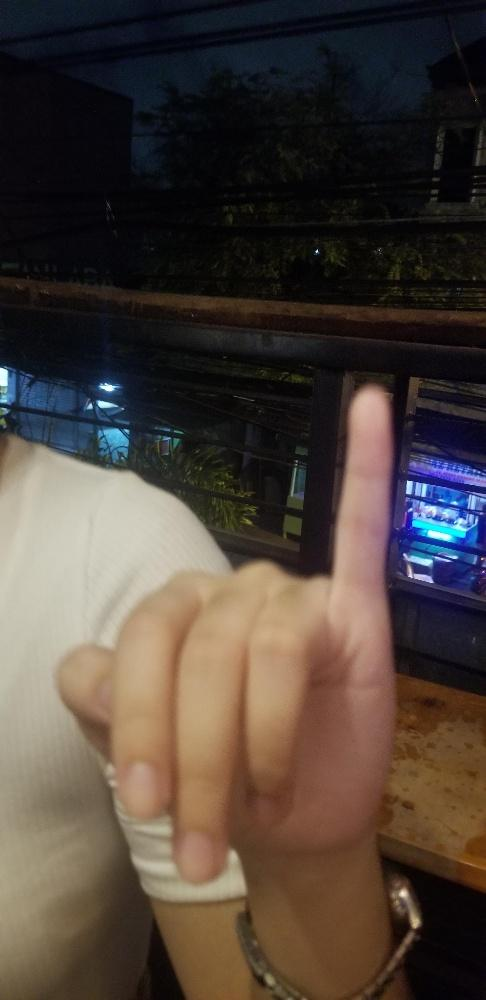i: (56, 380, 392, 886)
